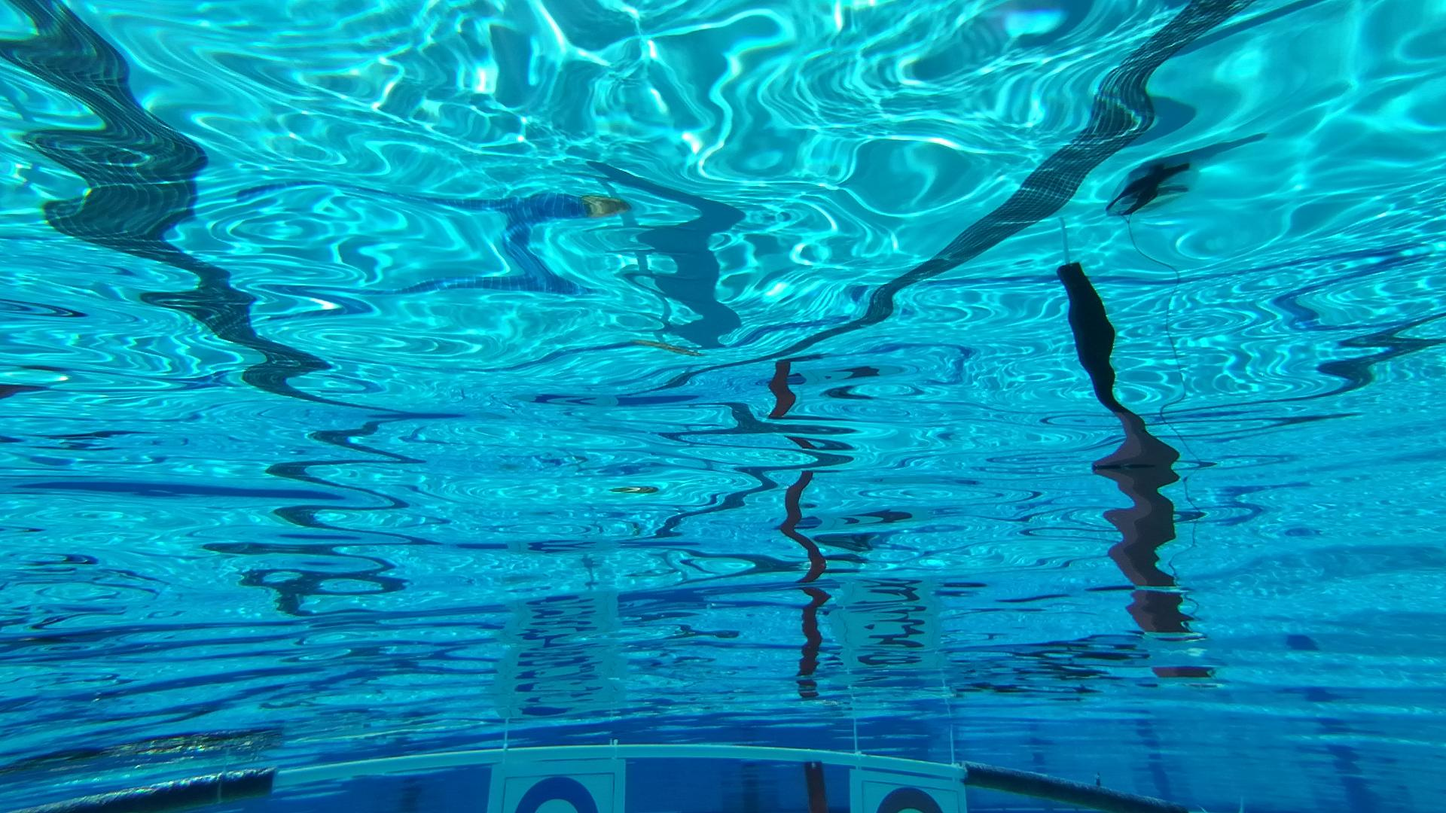blue-gate-sign: (854, 762, 962, 813)
red-gate-sign: (472, 751, 631, 813)
